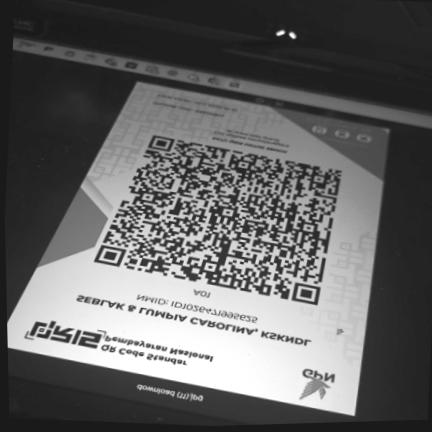Cara Pakai QRIS: (296, 114, 387, 154)
Cek Aplikasi Penyelenggara: (209, 124, 295, 149)
Dicetak Oleh: (149, 99, 230, 121)
Logo GPN: (284, 359, 347, 409)
Logo dan deskripsi QRIS: (13, 311, 228, 381)
Nama Merchant: (68, 291, 320, 352)
National Merchant ID: (128, 289, 263, 326)
QR Code: (85, 129, 349, 309)
Slogan: (206, 135, 291, 156)
Terminal ID: (185, 286, 216, 301)
Versi Cetak: (153, 92, 242, 115)
